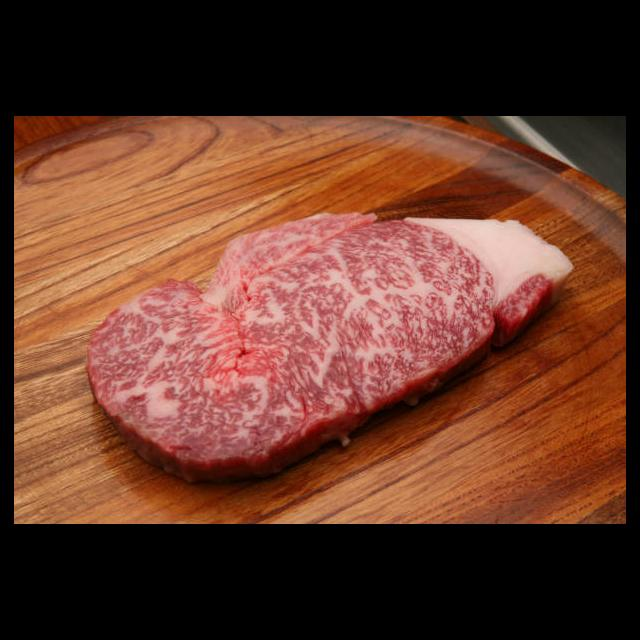beef: (86, 213, 573, 486)
